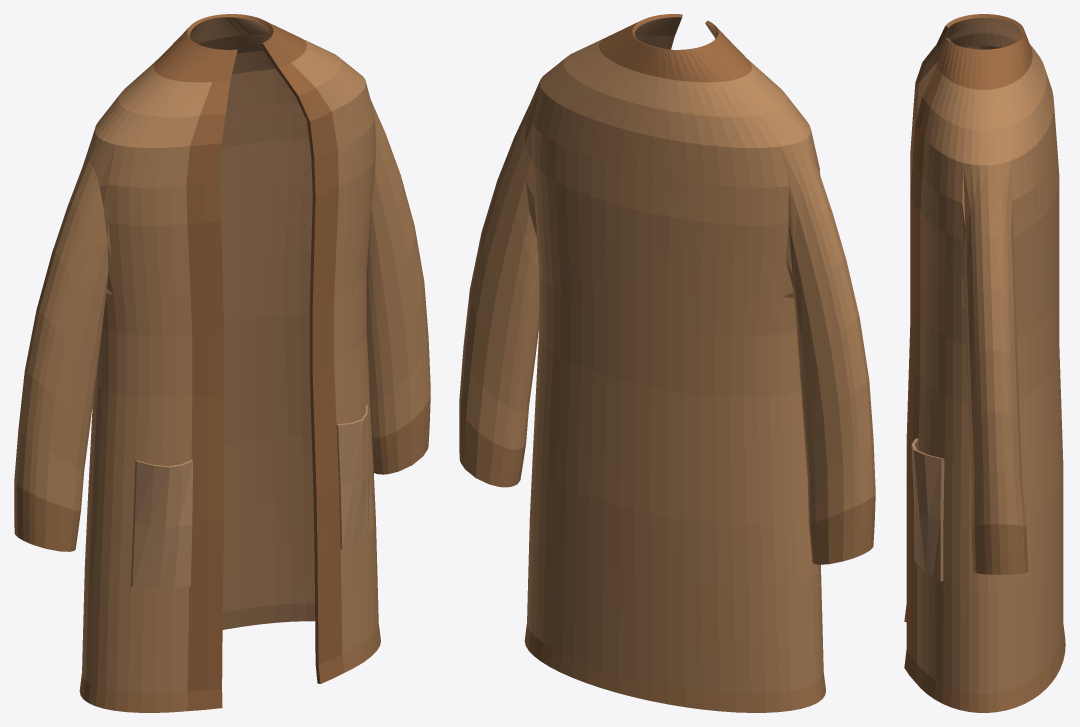
3 renders of one model, left to right at view 1: azimuth 30°, elevation 25°; view 2: azimuth 150°, elevation 25°; view 3: azimuth 270°, elevation 25°, orthographic. The views are drawn at different scales.
Visible parts, largest first — view 1: continuous_body_and_sleeves, patch_negX, patch_posX; view 2: continuous_body_and_sleeves; view 3: continuous_body_and_sleeves, patch_posX.
Part boxes in pixels (x1,y1,x2,y2): continuous_body_and_sleeves: (14,14,430,712); patch_negX: (130,460,192,588); patch_posX: (336,404,372,549); continuous_body_and_sleeves: (459,14,875,712); continuous_body_and_sleeves: (904,14,1065,712); patch_posX: (911,438,944,581).
Size of the model in its own units: 69.14 by 102 by 24.32.
